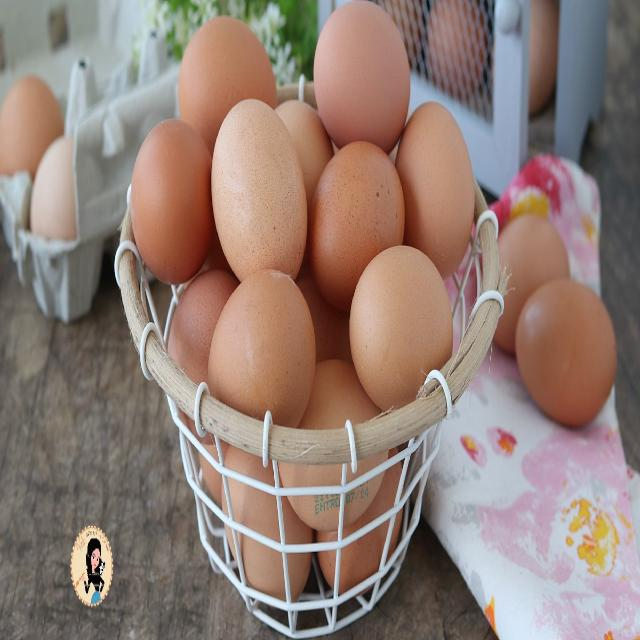Egg: (148, 46, 477, 399)
